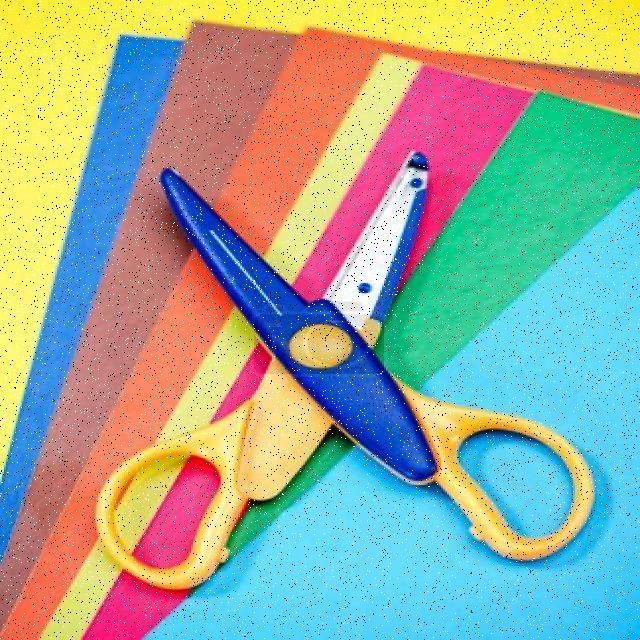scissors: (88, 148, 606, 597)
